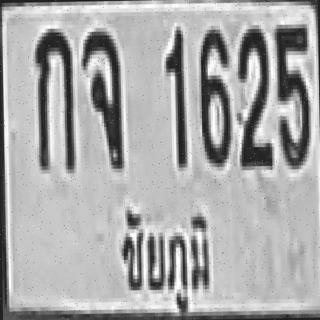A01: (32, 24, 74, 170)
A08: (80, 27, 122, 169)
N01: (163, 28, 185, 166)
N02: (236, 25, 271, 166)
N05: (272, 20, 309, 166)
N06: (198, 26, 228, 163)
P09: (115, 198, 210, 318)
